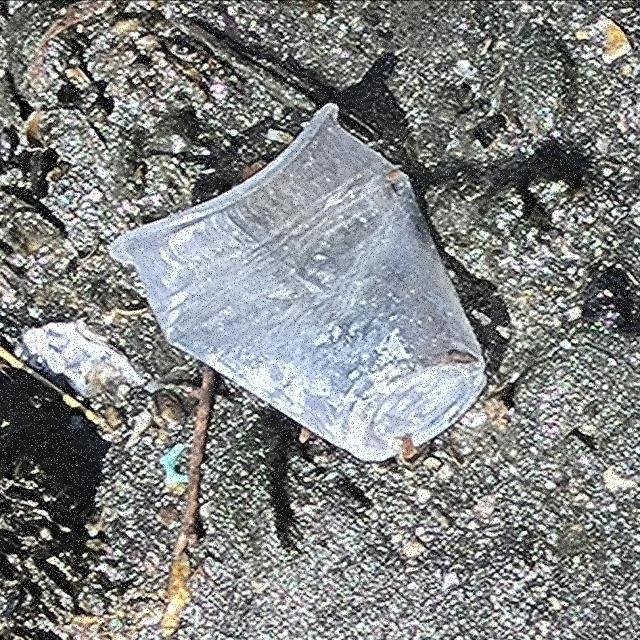plastic_waste: (108, 102, 490, 464)
